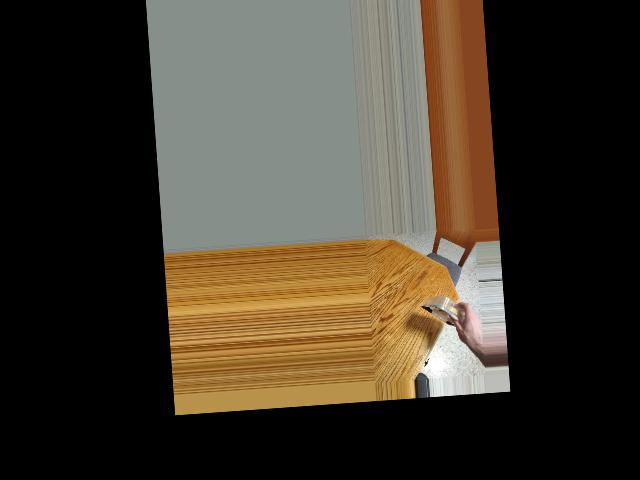cheese: (424, 288, 472, 343)
